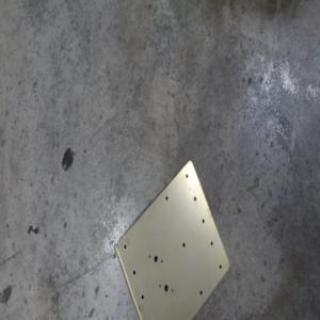MetalSheettrack_idkeyframe: (112, 156, 230, 319)
